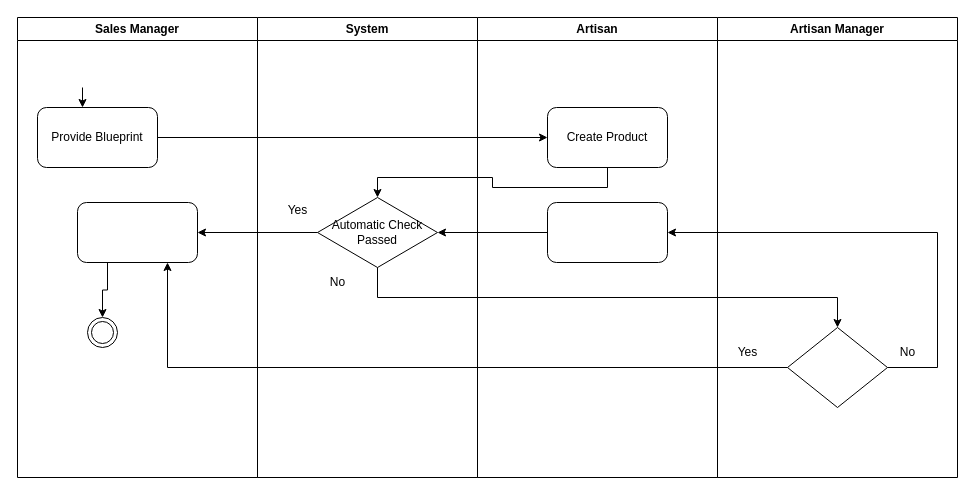
Some shapes in this 975 by 495 pixel diagram are drawn without their labels. The shapes that lost their labels are listed below. From the top down, each one's centre as x and y in pixels, then its label:
At [137,232]: "Retrieve Product".
At [607,232]: "Adjust Product".
At [837,367]: "Manual Check Passed".
